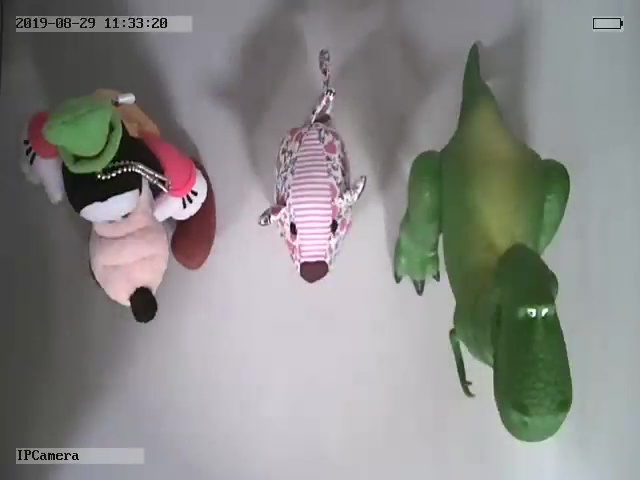goofy: (21, 85, 216, 324)
pig: (257, 47, 367, 285)
rex: (393, 39, 577, 445)
